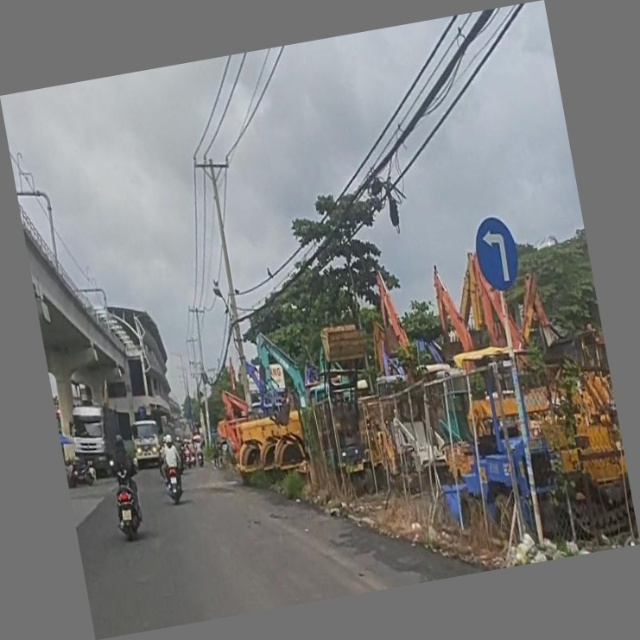R.301e: (471, 213, 524, 294)
